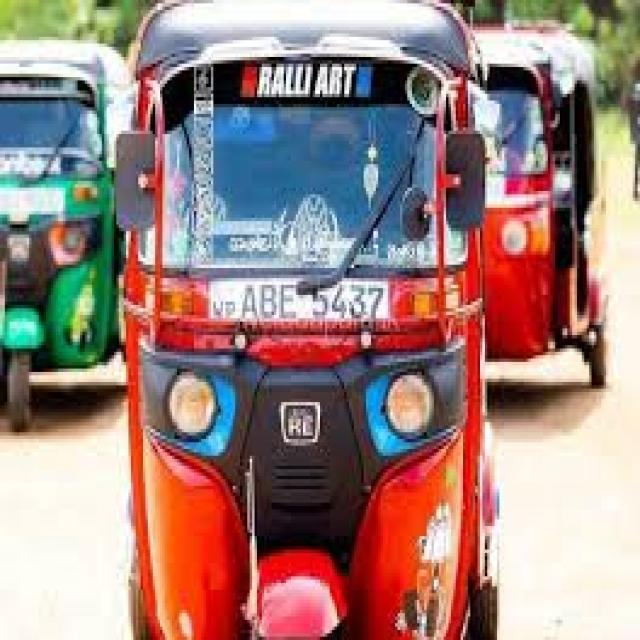three wheeler: (119, 3, 492, 640), (0, 40, 131, 429), (478, 27, 599, 359)
